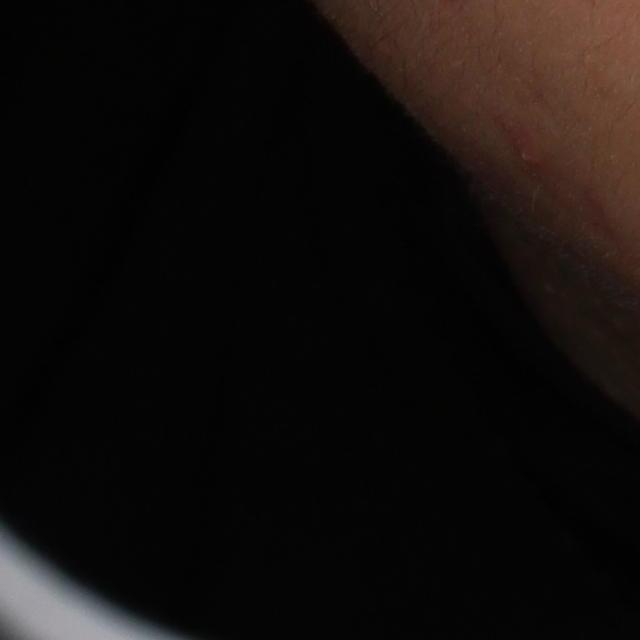papule: (505, 124, 555, 173)
